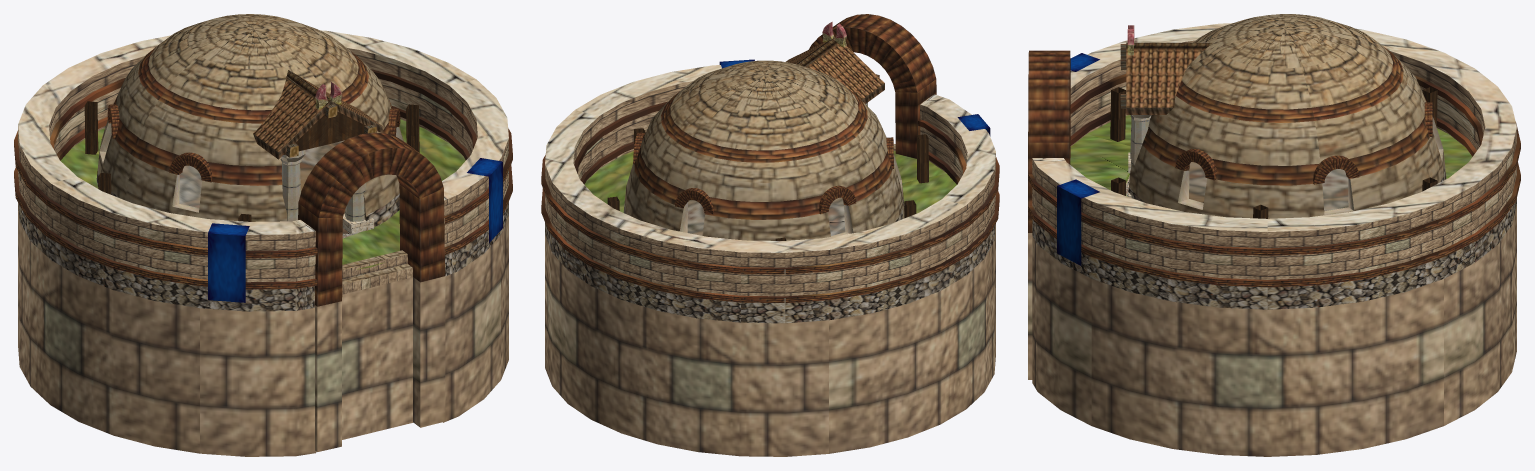
The model's file is special.dae.
3 renders of one model, left to right at view 1: azimuth 30°, elevation 25°; view 2: azimuth 150°, elevation 25°; view 3: azimuth 270°, elevation 25°, orthographic. The views are drawn at different scales.
Visible parts, largest first — view 1: special; view 2: special; view 3: special.
Part boxes in pixels (<box>): special: <box>14,14,512,456</box>; special: <box>541,14,999,456</box>; special: <box>1028,14,1520,456</box>.
Size of the model in its own units: 30.87 by 30.05 by 21.75.
